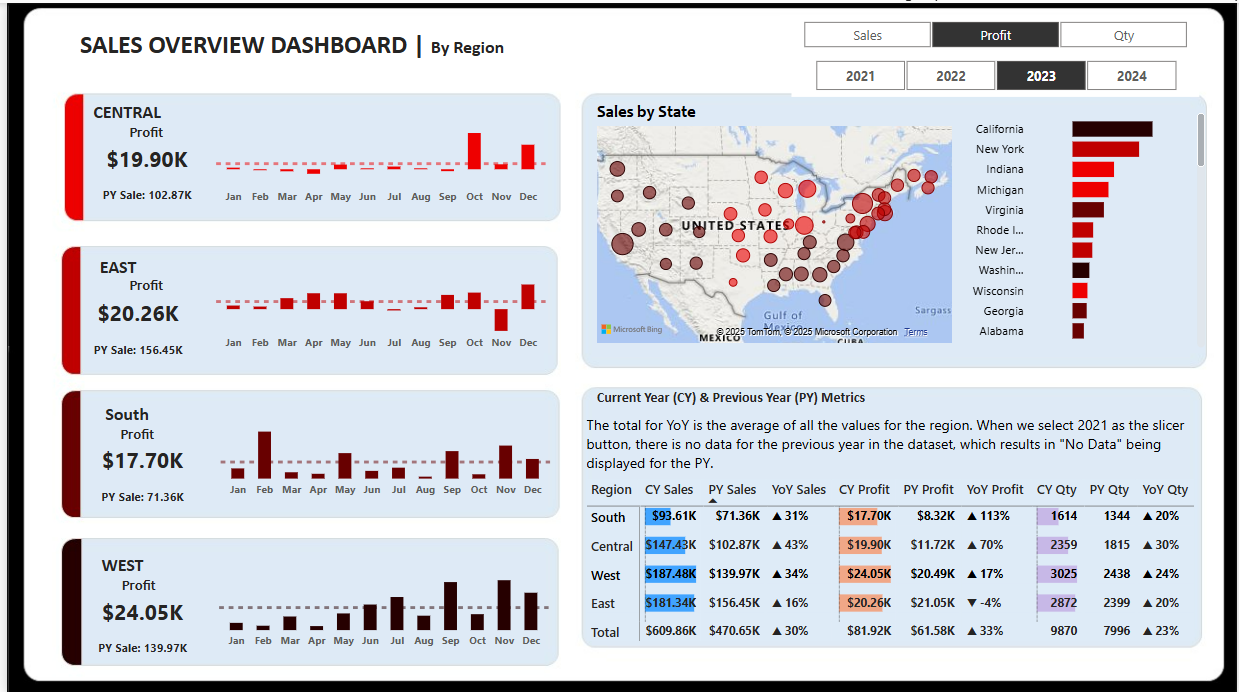

What the dashboard file says about the page in this screenshot:
{"tool":"powerbi","page":{"name":"Page 1","canvas":[1280,720],"ordinal":0},"visuals":[{"type":"slicer","fields":{"Values":["Select Metric.Select Metric"]},"box":[804.3,12.5,448.2,40.6],"z":0},{"type":"card","fields":{"Values":["Sales Data.Total Sales"]},"box":[68.7,140.6,156.2,45.3],"z":1000},{"type":"textbox","box":[79.7,96.8,90.6,43.7],"z":2000},{"type":"slicer","fields":{"Values":["Calendar Table.Year"]},"box":[817,52.5,424.4,44.5],"z":3000},{"type":"card","fields":{"Values":["Sales Data.Dynamic Title"]},"box":[79.7,118.7,132.8,35.9],"z":4000},{"type":"card","fields":{"Values":["Sales Data.PY KPI Sales"]},"box":[79.7,185.9,132.8,32.8],"z":5000},{"type":"clusteredColumnChart","fields":{"Y":["Sales Data.Total Sales"],"Category":["Calendar Table.Month"]},"box":[212.4,106.2,354.5,112.5],"z":6000},{"type":"textbox","box":[32.8,21.9,534.1,48.4],"z":7000},{"type":"card","fields":{"Values":["Sales Data.Total Sales"]},"box":[60,301.5,156.2,45.3],"z":8000},{"type":"textbox","box":[70.9,257.8,90.6,43.7],"z":9000},{"type":"card","fields":{"Values":["Sales Data.PY KPI Sales"]},"box":[70.9,346.8,132.8,32.8],"z":10000},{"type":"clusteredColumnChart","fields":{"Y":["Sales Data.Total Sales"],"Category":["Calendar Table.Month"]},"box":[212.4,257.7,354.5,112.5],"z":11000},{"type":"card","fields":{"Values":["Sales Data.Total Sales"]},"box":[64.8,455.2,156.2,45.3],"z":12000},{"type":"textbox","box":[79.7,410.8,90.6,43.7],"z":13000},{"type":"card","fields":{"Values":["Sales Data.PY KPI Sales"]},"box":[75.7,500.5,132.8,32.8],"z":14000},{"type":"clusteredColumnChart","fields":{"Y":["Sales Data.Total Sales"],"Category":["Calendar Table.Month"]},"box":[217.2,411.4,354.5,112.5],"z":15000},{"type":"card","fields":{"Values":["Sales Data.Total Sales"]},"box":[63.7,612.5,156.2,45.3],"z":16000},{"type":"textbox","box":[74.7,568.7,90.6,43.7],"z":17000},{"type":"card","fields":{"Values":["Sales Data.PY KPI Sales"]},"box":[74.7,657.7,132.8,32.8],"z":18000},{"type":"clusteredColumnChart","fields":{"Y":["Sales Data.Total Sales"],"Category":["Calendar Table.Month"]},"box":[216.2,568.6,354.5,112.5],"z":19000},{"type":"card","fields":{"Values":["Sales Data.Dynamic Title"]},"box":[79.7,278,132.8,35.9],"z":20000},{"type":"card","fields":{"Values":["Sales Data.Dynamic Title"]},"box":[70.3,432.6,132.8,35.9],"z":21000},{"type":"card","fields":{"Values":["Sales Data.Dynamic Title"]},"box":[71.8,589.6,132.3,35.9],"z":22000},{"type":"map","title":"Sales by State","fields":{"Size":["Sales Data.Total Sales"],"Category":["Sales Data.State/Province"],"Series":["Sales Data.Region"]},"box":[609.1,101.5,379.5,257.7],"z":23000},{"type":"barChart","fields":{"Y":["Sales Data.Total Sales"],"Category":["Sales Data.State/Province"],"Series":["Sales Data.Region"]},"box":[988.6,101.5,263.9,262.4],"z":24000},{"type":"pivotTable","fields":{"Rows":["Sales Data.Region"],"Values":["Sales Data.CY Sales","Sales Data.PY Sales","Sales Data.YoY Sales","Sales Data.CY Profit","Sales Data.PY Profit","Sales Data.YoY Profit","Sales Data.CY Qty","Sales Data.PY Qty","Sales Data.YoY Qty"]},"box":[598.2,490.4,643.5,190.5],"z":25000},{"type":"textbox","box":[609.1,395.1,299.9,37.5],"z":25001},{"type":"textbox","box":[598.2,423.3,654.4,76.5],"z":25002}]}

Visuals, with their boxes in screenshot pixels (x1, y1, x2, y2), scaled from the page's 1280x720 canvas onto the 1239x692 screenshot:
slicer - Select Metric.Select Metric: crop(779, 12, 1212, 51)
card - Sales Data.Total Sales: crop(66, 135, 218, 179)
textbox: crop(77, 93, 165, 135)
slicer - Calendar Table.Year: crop(791, 50, 1202, 93)
card - Sales Data.Dynamic Title: crop(77, 114, 206, 149)
card - Sales Data.PY KPI Sales: crop(77, 179, 206, 210)
clusteredColumnChart - Sales Data.Total Sales x Calendar Table.Month: crop(206, 102, 549, 210)
textbox: crop(32, 21, 549, 68)
card - Sales Data.Total Sales: crop(58, 290, 209, 333)
textbox: crop(69, 248, 156, 290)
card - Sales Data.PY KPI Sales: crop(69, 333, 197, 365)
clusteredColumnChart - Sales Data.Total Sales x Calendar Table.Month: crop(206, 248, 549, 356)
card - Sales Data.Total Sales: crop(63, 437, 214, 481)
textbox: crop(77, 395, 165, 437)
card - Sales Data.PY KPI Sales: crop(73, 481, 202, 513)
clusteredColumnChart - Sales Data.Total Sales x Calendar Table.Month: crop(210, 395, 553, 504)
card - Sales Data.Total Sales: crop(62, 589, 213, 632)
textbox: crop(72, 547, 160, 589)
card - Sales Data.PY KPI Sales: crop(72, 632, 201, 664)
clusteredColumnChart - Sales Data.Total Sales x Calendar Table.Month: crop(209, 546, 552, 655)
card - Sales Data.Dynamic Title: crop(77, 267, 206, 302)
card - Sales Data.Dynamic Title: crop(68, 416, 197, 450)
card - Sales Data.Dynamic Title: crop(70, 567, 198, 601)
"Sales by State" map: crop(590, 98, 957, 345)
barChart - Sales Data.Total Sales x Sales Data.State/Province: crop(957, 98, 1212, 350)
pivotTable - Sales Data.Region x Sales Data.CY Sales: crop(579, 471, 1202, 654)
textbox: crop(590, 380, 880, 416)
textbox: crop(579, 407, 1212, 480)
